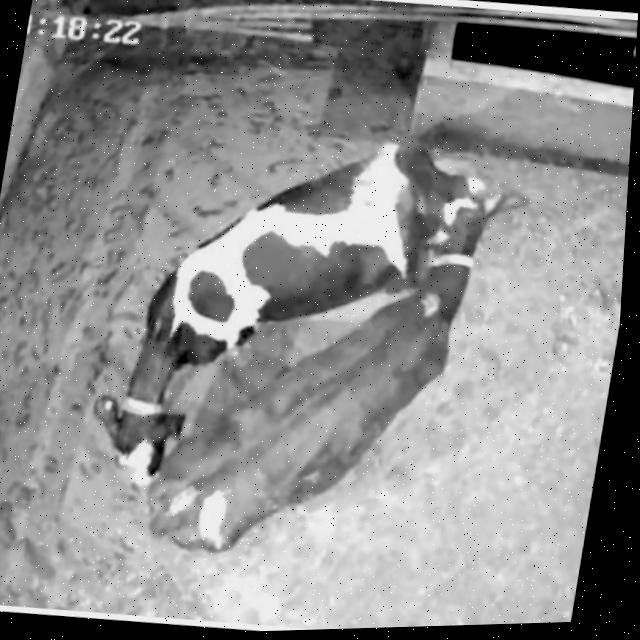propping: (339, 110, 548, 327)
